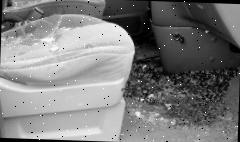glass: (130, 66, 236, 134), (2, 13, 65, 57), (4, 0, 54, 11)
